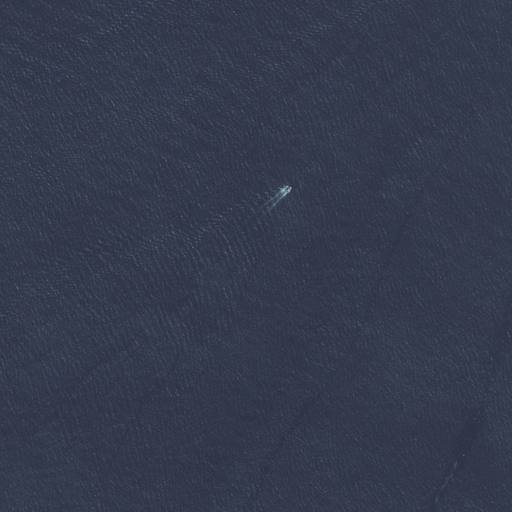ship: (280, 184, 291, 196)
